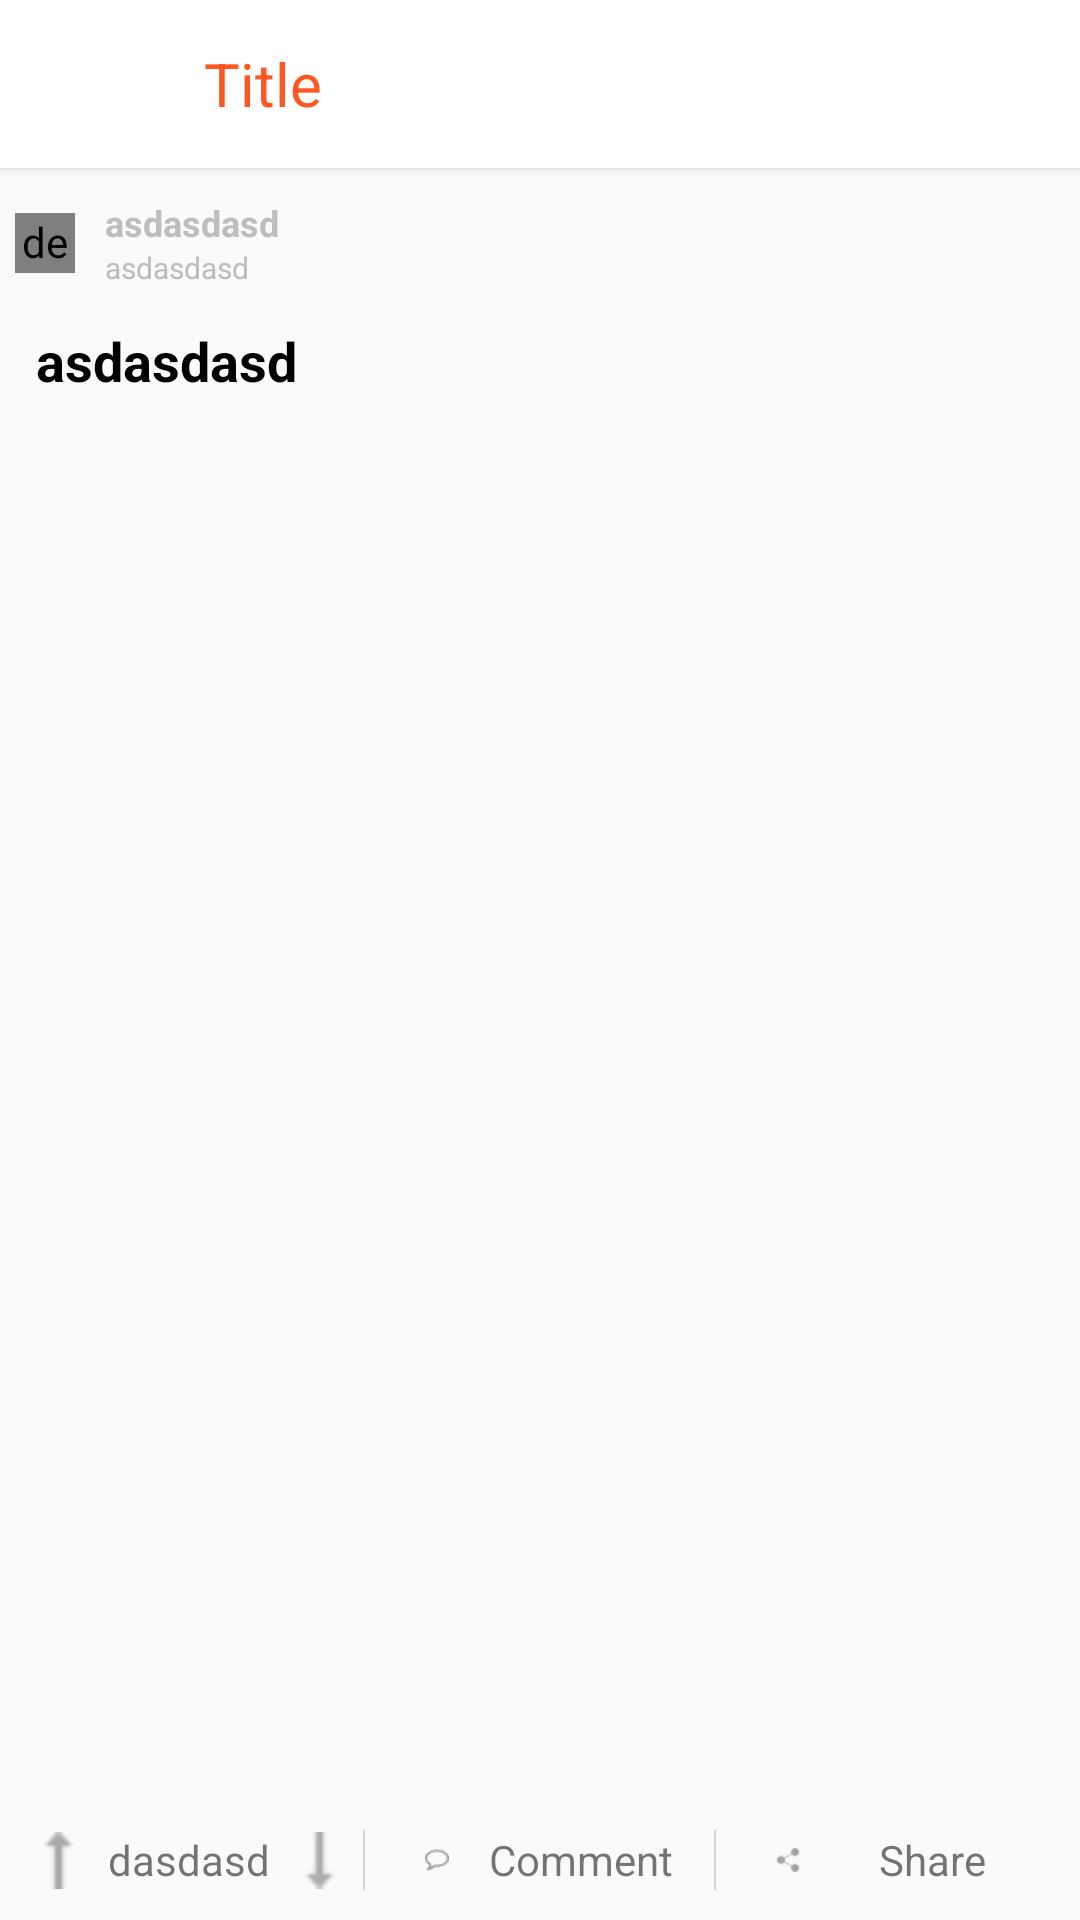

Screen size 1080 × 1920. Icon name, then its center in pixels as (x,y):
down arrow: (319,1860)
up arrow: (58,1860)
